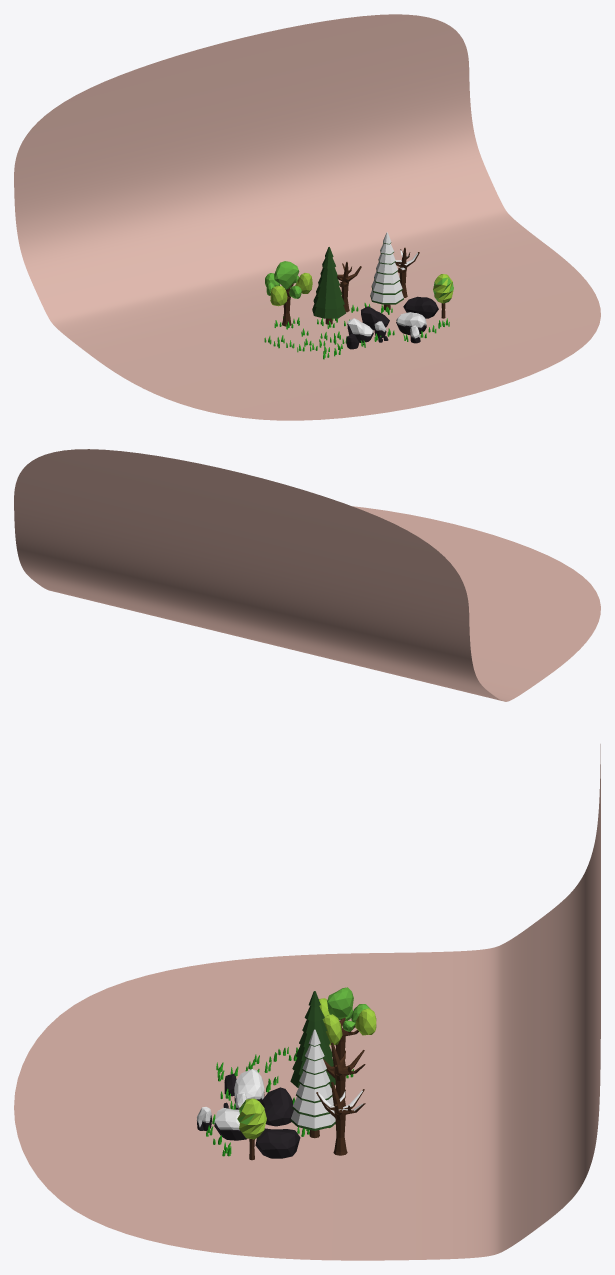
File: lowpoly_forest.glb
3 views of the same model, one above another, from view 1: azimuth 30°, elevation 25°; view 2: azimuth 150°, elevation 25°; view 3: azimuth 270°, elevation 25° (orthographic). The views are drawn at different scales.
Visible parts, largest first — view 1: Plane, Pine.001, Pine.002, Rock.002; view 2: Plane; view 3: Plane, Pine.001, Pine.002, Rock.002, Tree.011, Rock.003, Cylinder, Tree.010, Rock.005, Rock.006.
Part boxes in pixels (x1,y1,x2,y2): Plane: (14, 14, 600, 420); Pine.001: (370, 232, 403, 304); Pine.002: (312, 247, 345, 318); Rock.002: (403, 296, 438, 318); Plane: (14, 449, 600, 701); Plane: (14, 744, 600, 1260); Pine.001: (290, 1029, 335, 1130); Pine.002: (290, 991, 335, 1087); Rock.002: (255, 1128, 300, 1158); Tree.011: (316, 1082, 365, 1155); Rock.003: (261, 1087, 293, 1126); Cylinder: (237, 1098, 266, 1139); Tree.010: (323, 1043, 365, 1106); Rock.005: (214, 1107, 247, 1140); Rock.006: (234, 1069, 264, 1103).
Bounding box in the file's own units: 39.24 × 17.11 × 31.65.
